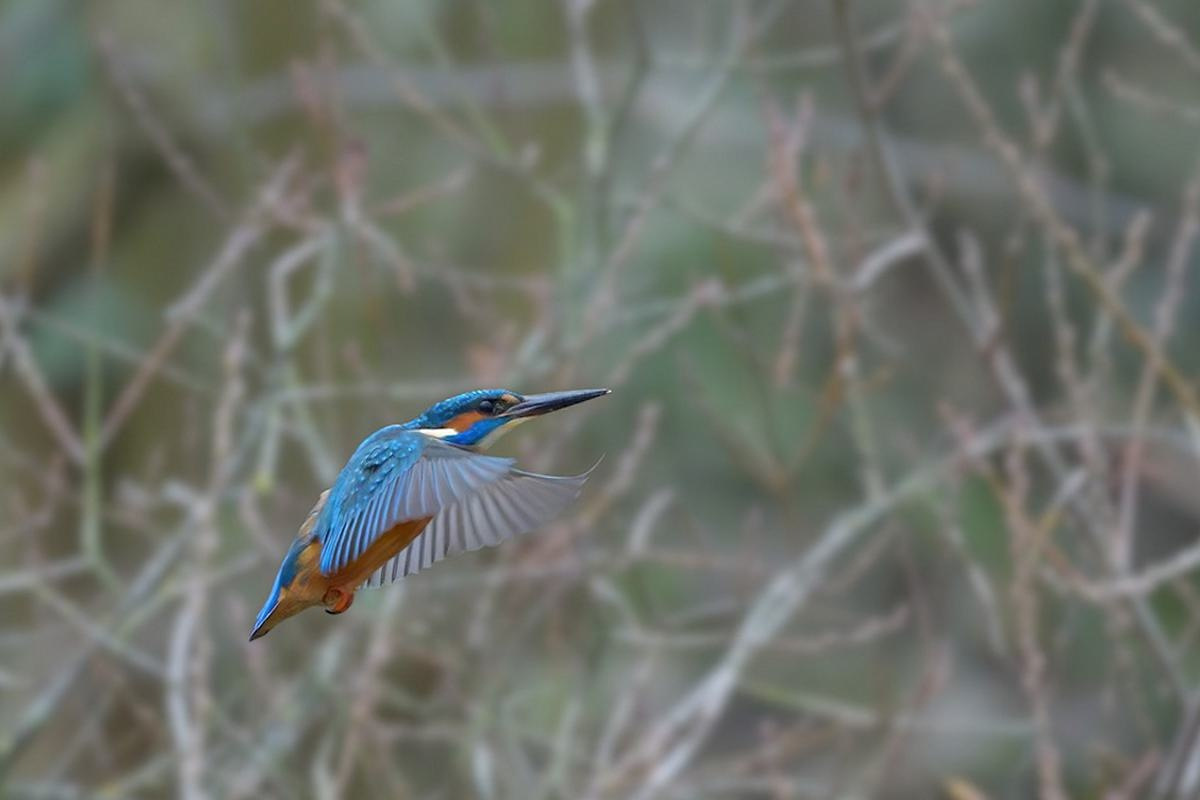kingfisher: (245, 370, 620, 615)
